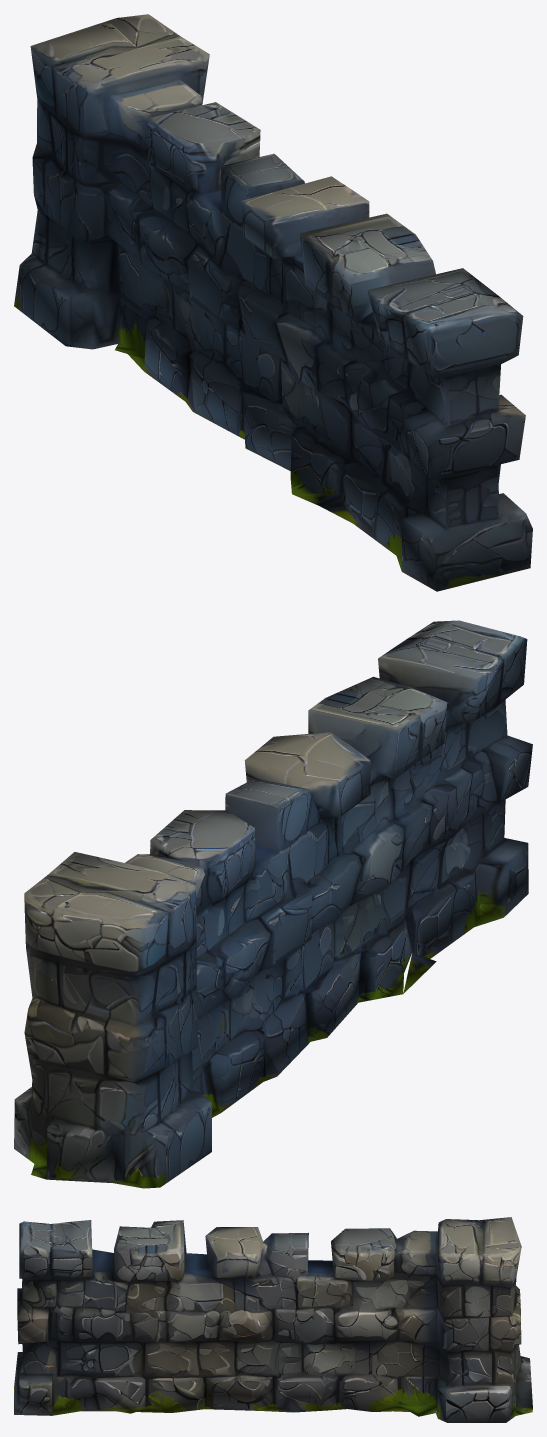
The model's file is base_wall.glb.
3 renders of one model, top to bottom at view 1: azimuth 30°, elevation 25°; view 2: azimuth 150°, elevation 25°; view 3: azimuth 270°, elevation 25°, orthographic. The views are drawn at different scales.
Visible parts, largest first — view 1: tripo_node_7b44e521-0564-4b9f-a7f3-4076f28e01b0; view 2: tripo_node_7b44e521-0564-4b9f-a7f3-4076f28e01b0; view 3: tripo_node_7b44e521-0564-4b9f-a7f3-4076f28e01b0.
Part boxes in pixels (bbox=[...]): tripo_node_7b44e521-0564-4b9f-a7f3-4076f28e01b0: bbox=[14, 14, 532, 591]; tripo_node_7b44e521-0564-4b9f-a7f3-4076f28e01b0: bbox=[14, 620, 532, 1188]; tripo_node_7b44e521-0564-4b9f-a7f3-4076f28e01b0: bbox=[14, 1217, 532, 1422].
Size of the model in its own units: 0.2066 by 0.3468 by 0.9745.
1 material, 1 textured.
